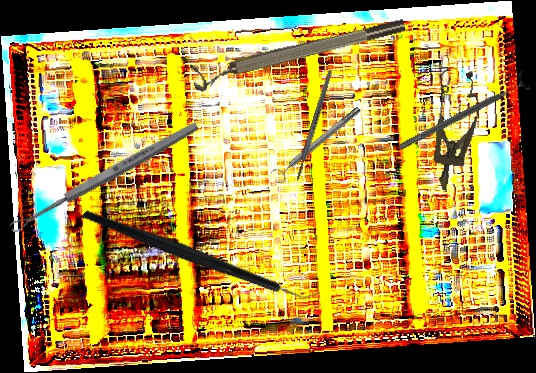Chopper: (81, 138, 323, 368)
Fixation Ring: (189, 14, 409, 94), (394, 69, 533, 158), (268, 102, 366, 186)
Scalpel Handle: (294, 68, 334, 182)
Speculum: (420, 66, 486, 194)
Surgical Spoon: (7, 119, 201, 235)
